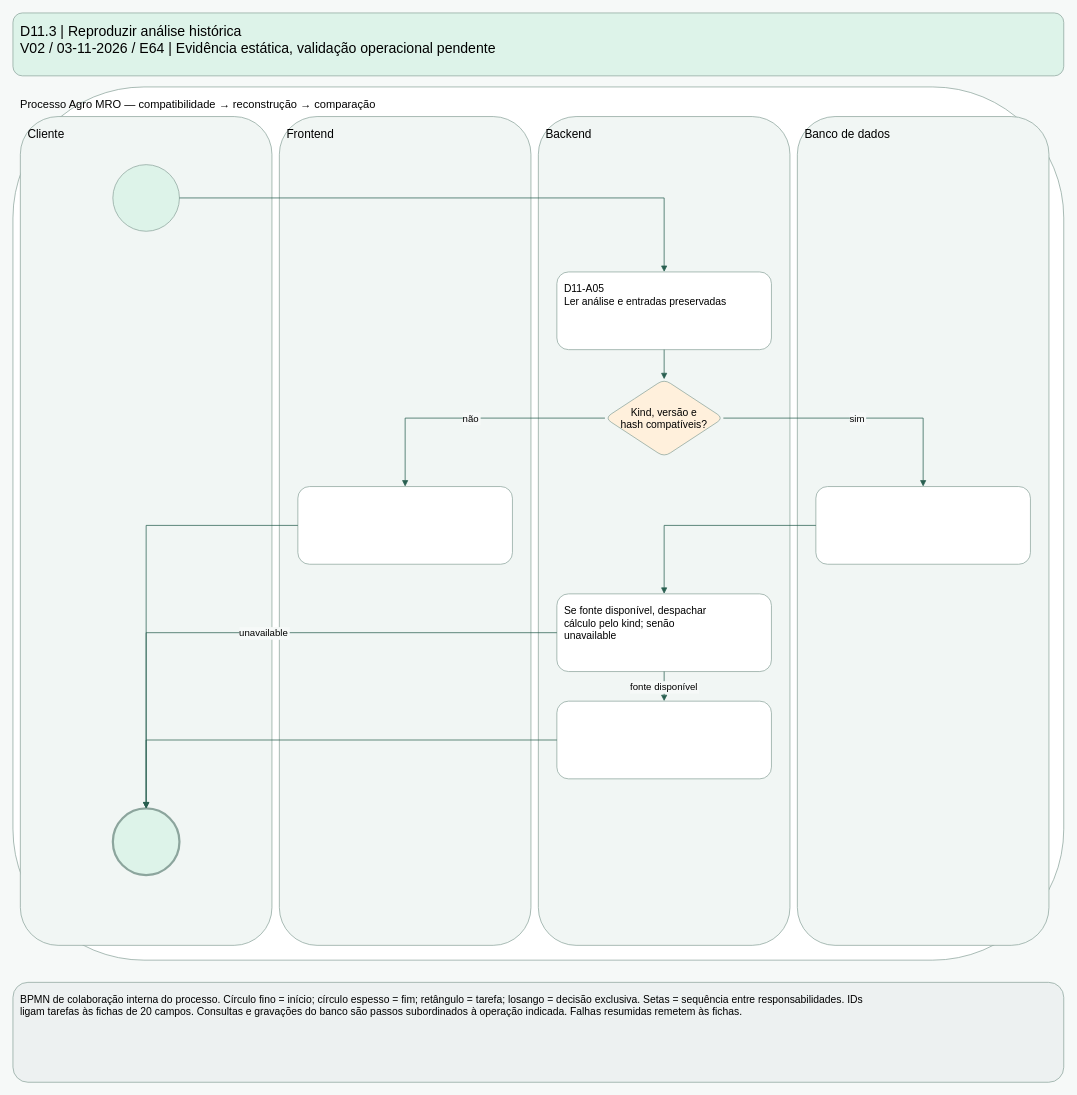
This 1077x1095 diagram has some shape labels left out. Here are the shapes that lost their labels. From the top down, the centre of each, then its label:
(145,197): Replay
(404,525): not_reproduced Resultado histórico preservado
(922,525): Carregar movimentos elegíveis e parâmetros históricos
(663,739): Comparar representação canonical reproduced ou divergent
(145,841): Fim Estado
